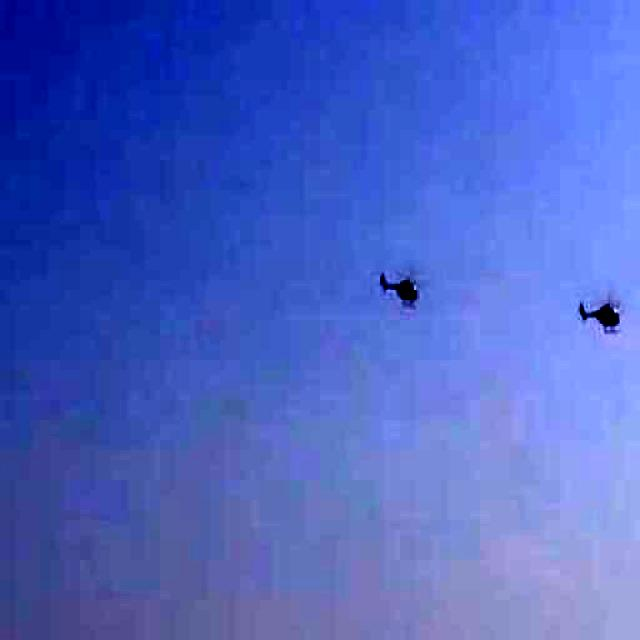drone: (364, 249, 438, 325), (568, 281, 636, 341)
